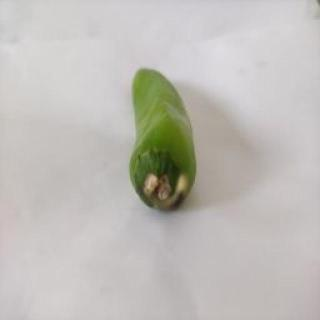Cabai Hijau: (123, 63, 202, 221)
